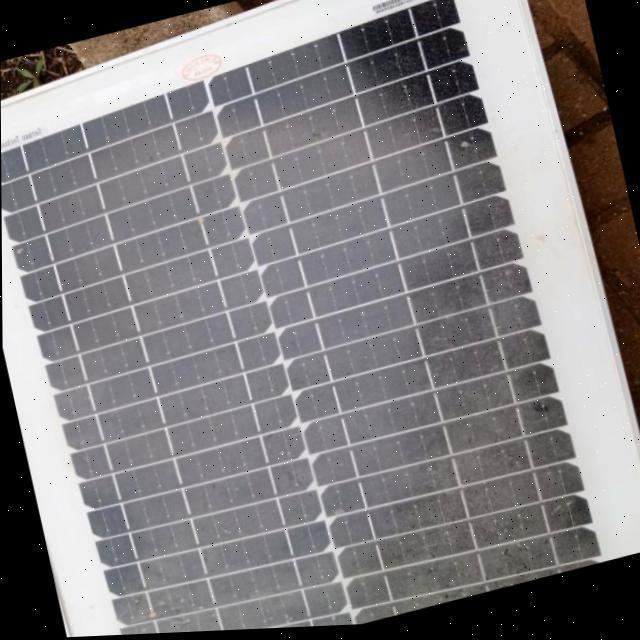Anomaly Solar Panel: (0, 0, 623, 640)
Surface Contaminant: (1, 5, 610, 637)
